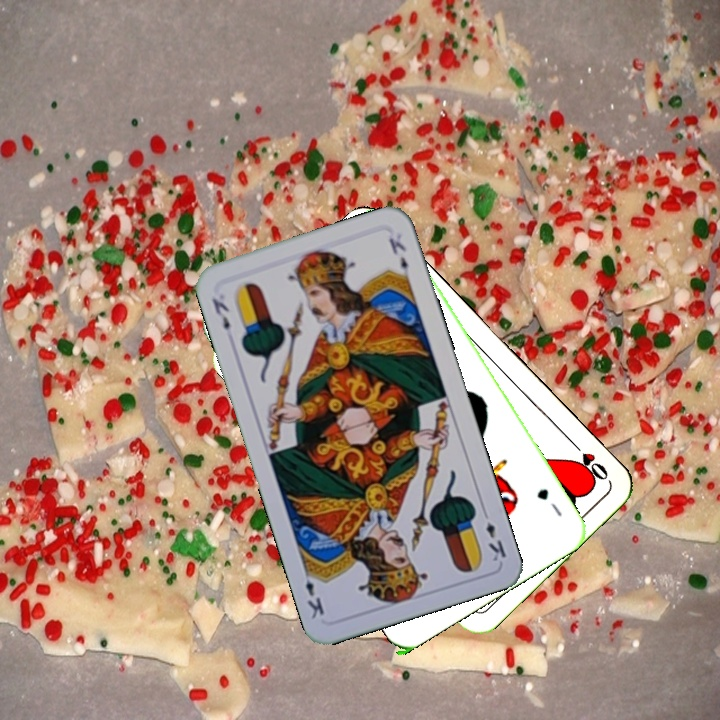EK: (478, 505, 509, 564), (207, 294, 233, 333)
GU: (533, 484, 565, 519)
HO: (566, 436, 611, 485)
